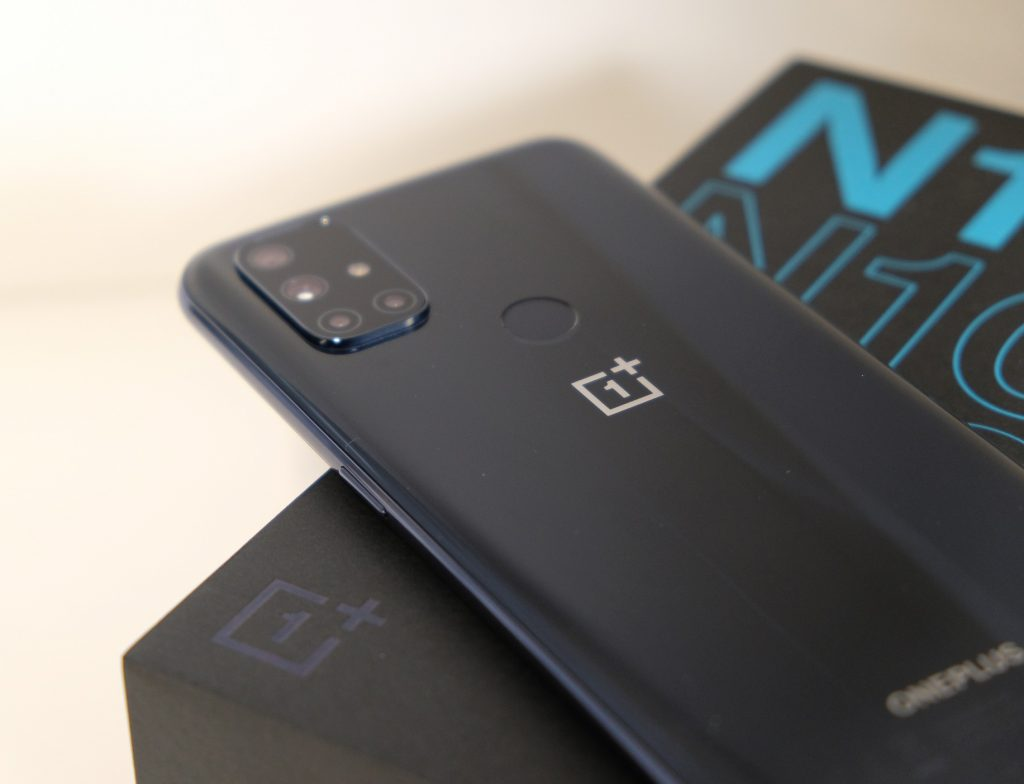Phone: (179, 129, 1024, 784)
